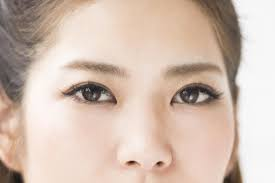pupil: (82, 86, 100, 101), (180, 88, 198, 102)
